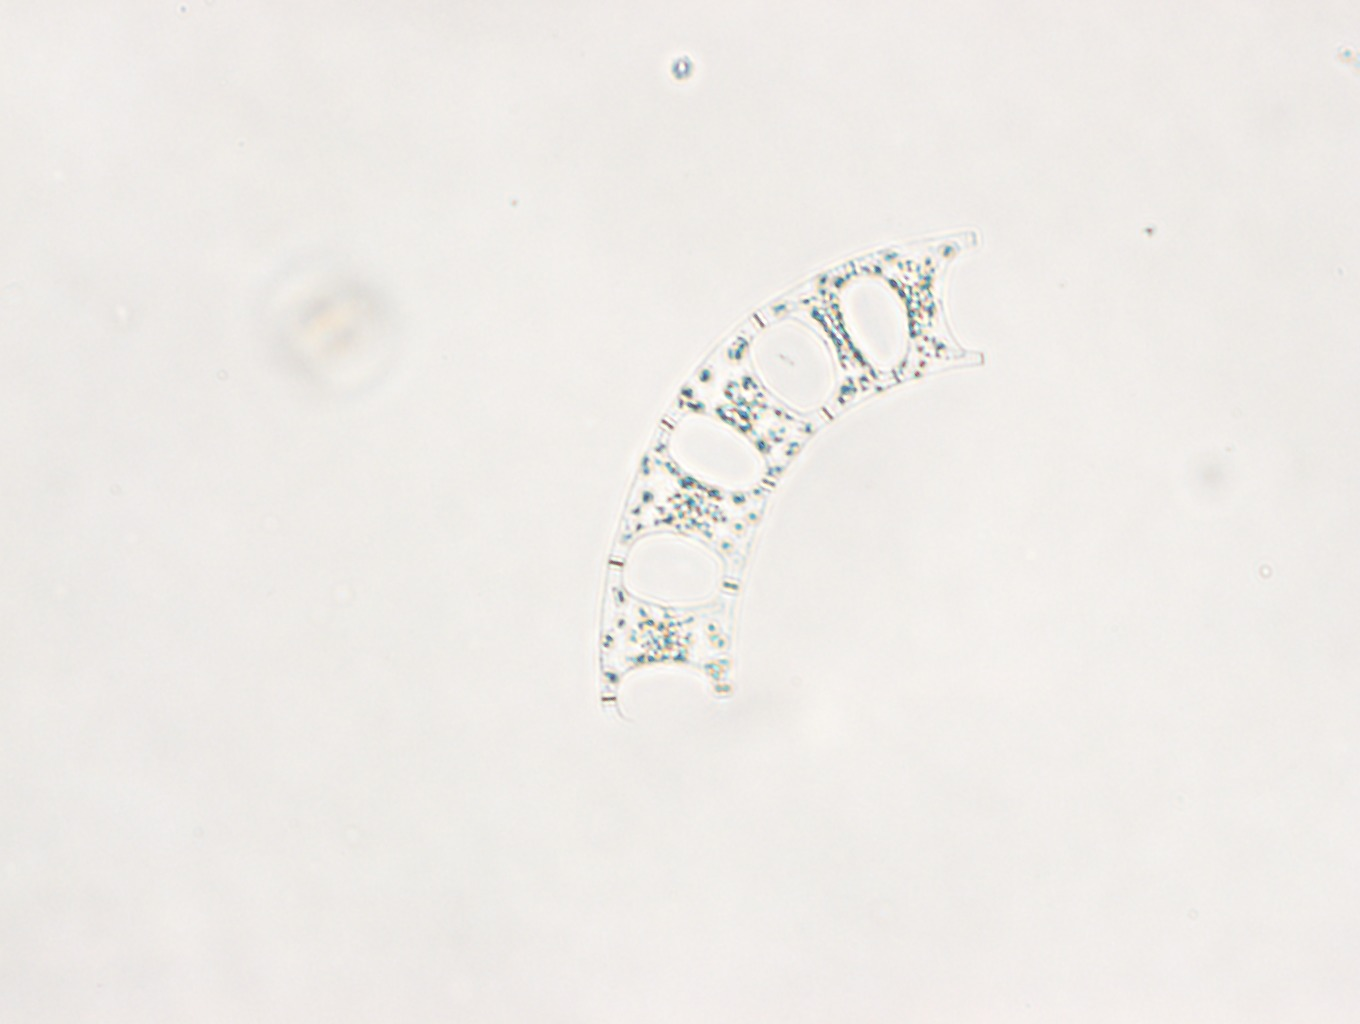eucampia: (599, 228, 985, 724)
